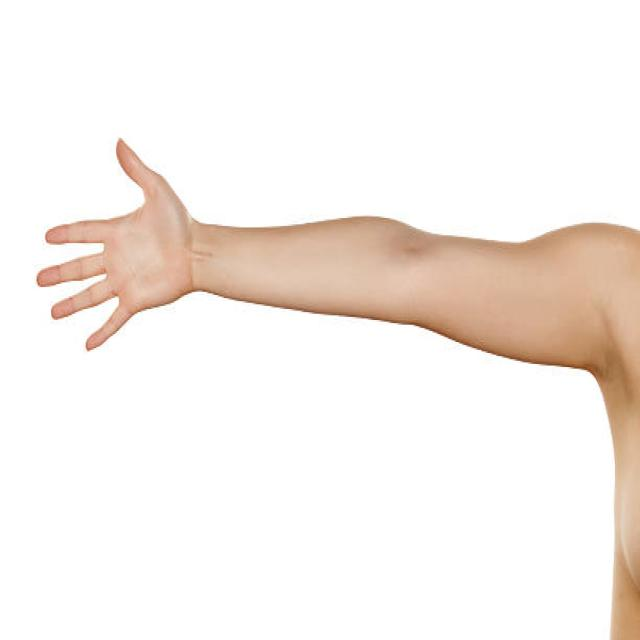piel: (31, 130, 639, 638)
